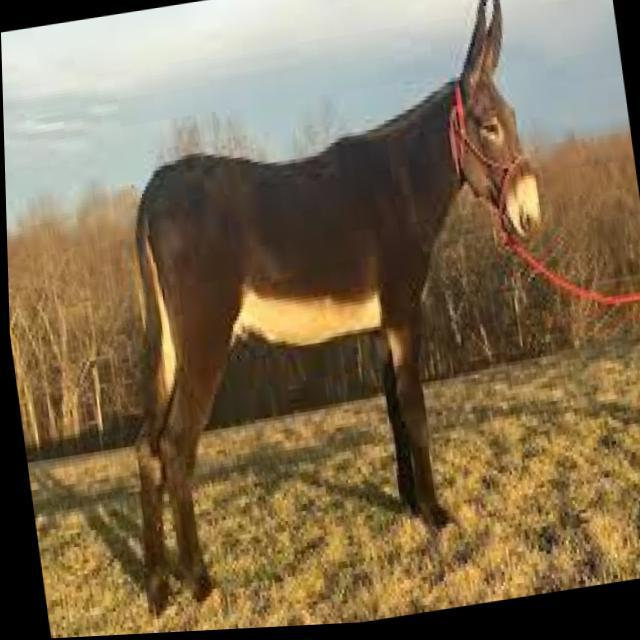Donkey: (67, 0, 588, 621)
